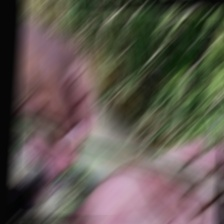Leaf_Blast: (29, 121, 224, 194)
